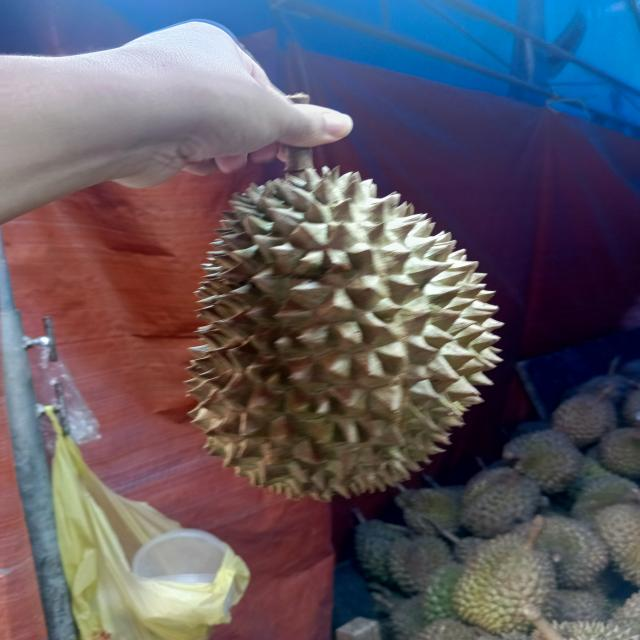mature: (183, 161, 500, 501)
